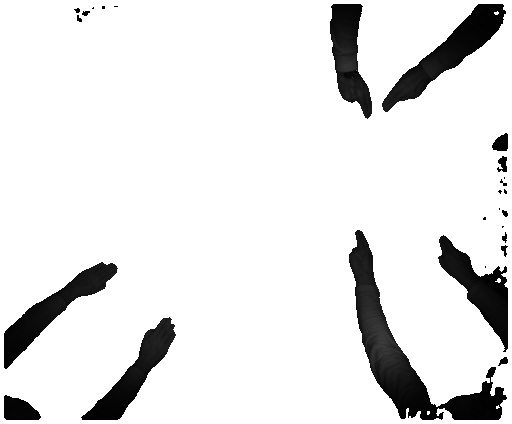hand: (432, 232, 477, 286), (344, 224, 383, 284), (71, 256, 119, 300), (140, 312, 175, 368), (380, 73, 430, 111), (336, 75, 375, 119)
